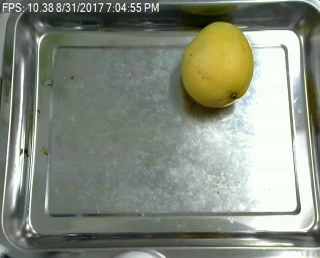Mango: (182, 20, 255, 106)
